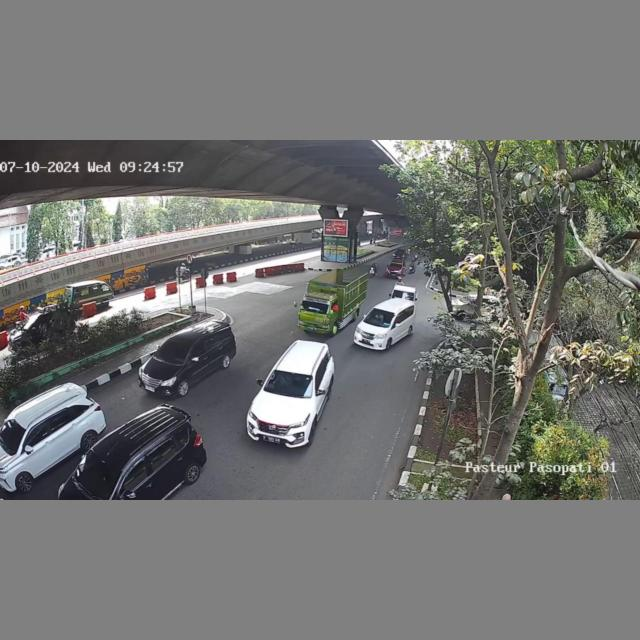windshield: (76, 449, 124, 498), (264, 368, 314, 396), (154, 339, 189, 362), (361, 307, 396, 326), (302, 297, 333, 314)
